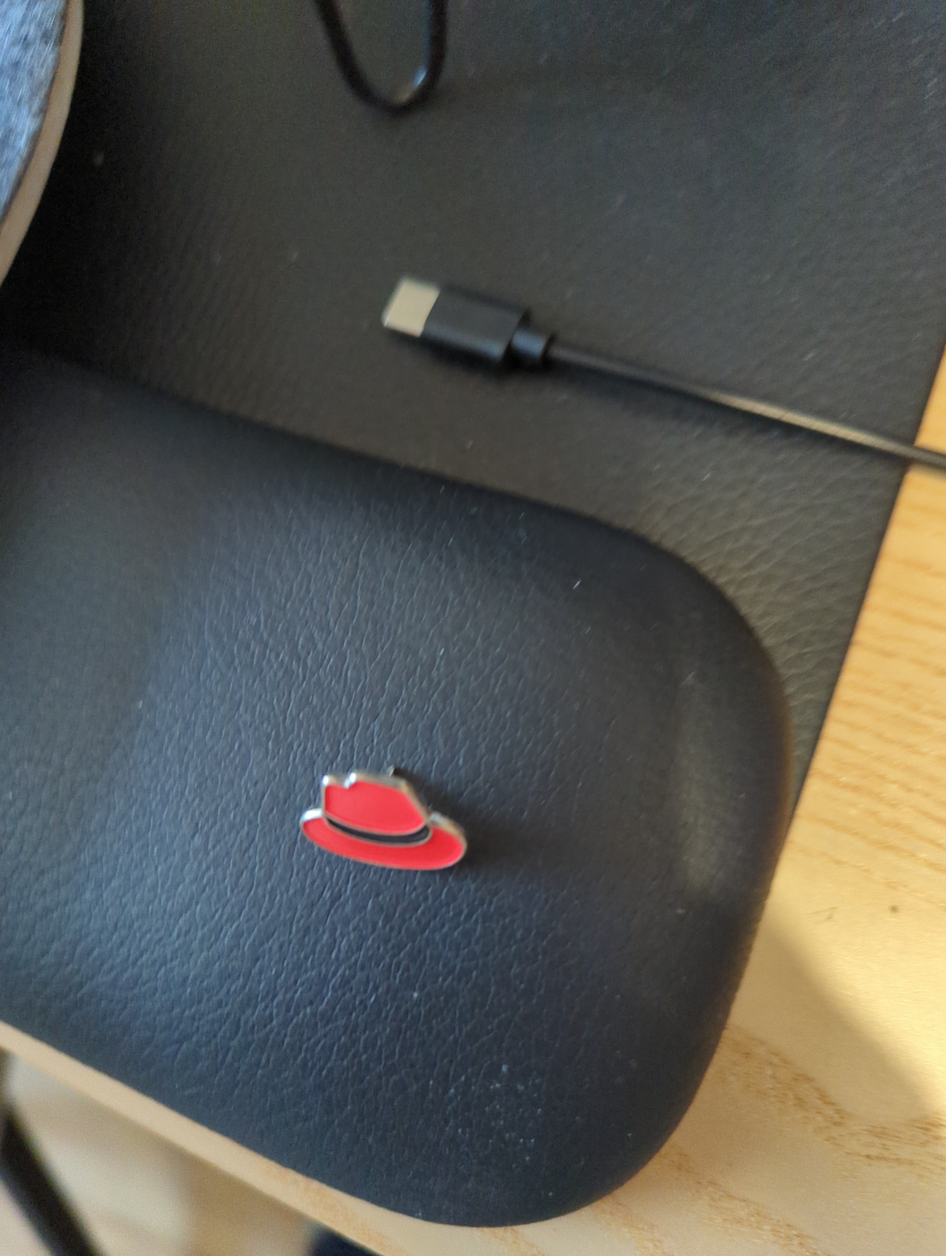Red-Hat: (214, 688, 553, 945)
